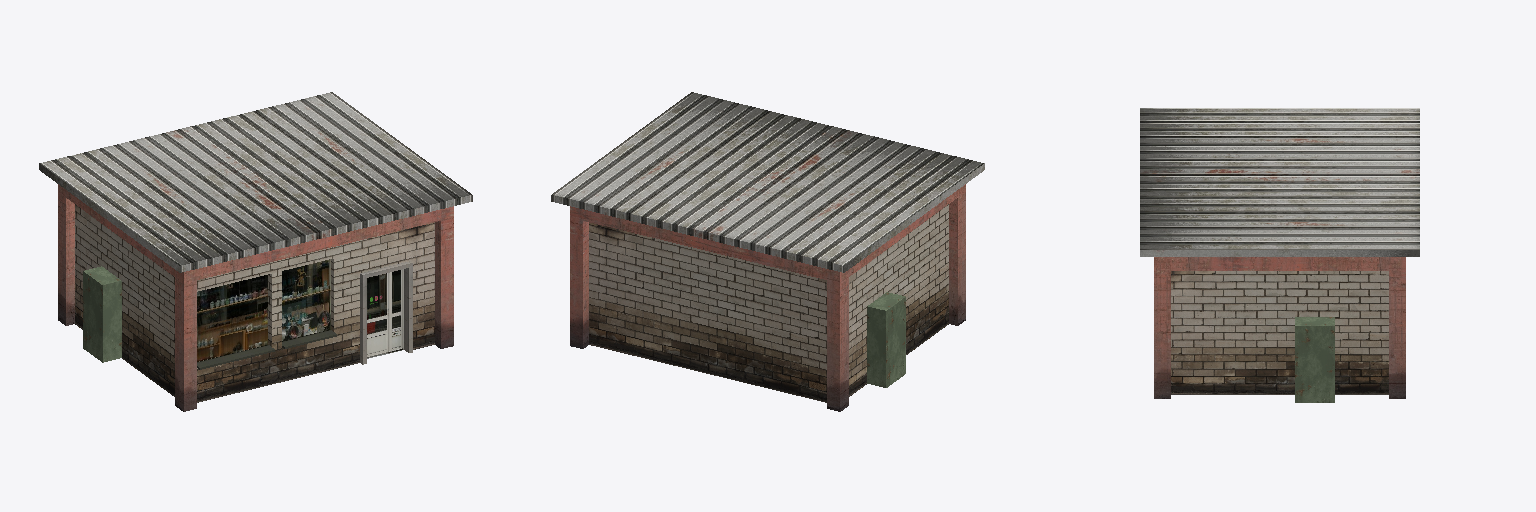
3 renders of one model, left to right at view 1: azimuth 30°, elevation 25°; view 2: azimuth 150°, elevation 25°; view 3: azimuth 270°, elevation 25°, orthographic.
Visible parts, largest first — view 1: Cube; view 2: Cube; view 3: Cube.
Boxes of the visible parts, x1=… form: Cube: x1=39, y1=92, x2=472, y2=411; Cube: x1=551, y1=92, x2=984, y2=411; Cube: x1=1140, y1=108, x2=1419, y2=402.
Size of the model in its own units: 4.17 by 2.1 by 3.46.
1 materials, 1 textured.